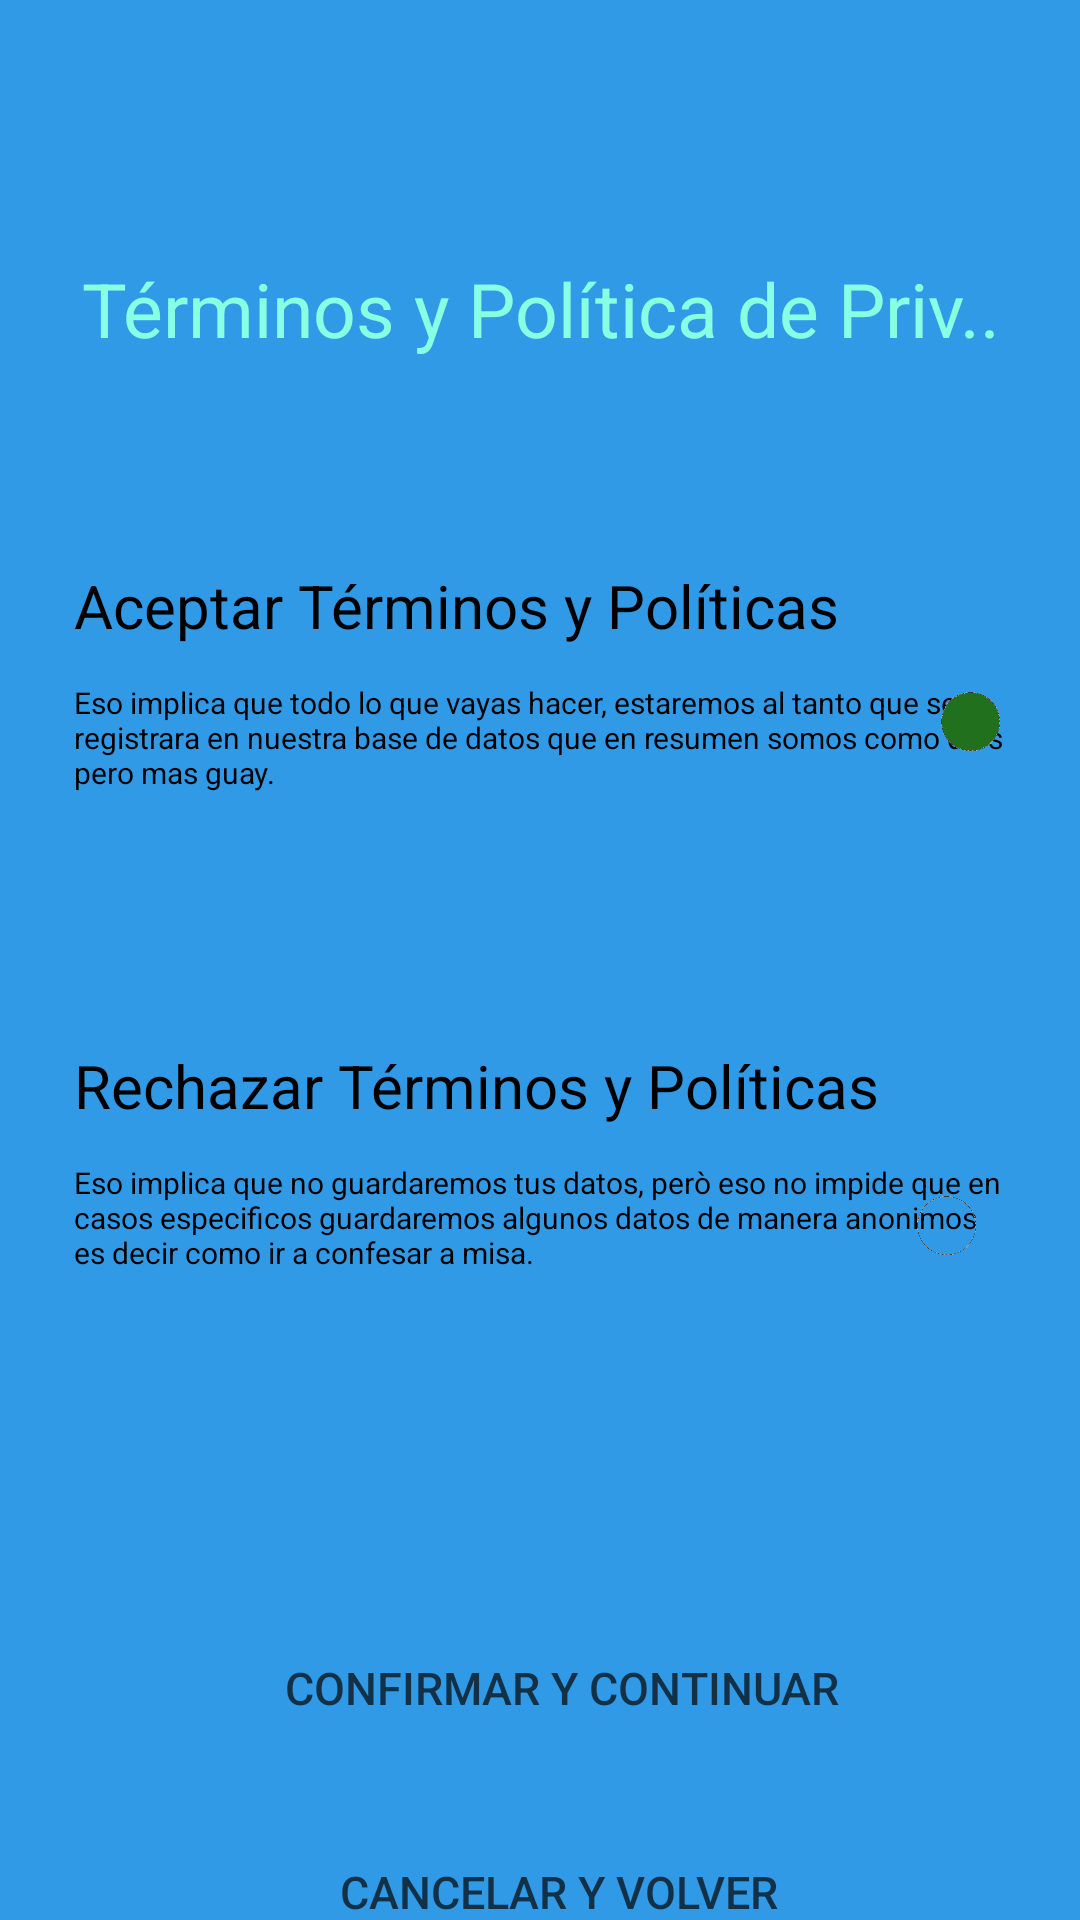

Where to tap for icons on this 1080×1920 app screen, as (x=x, y=y):
punto: (x=971, y=721)
puntob: (x=945, y=1225)
